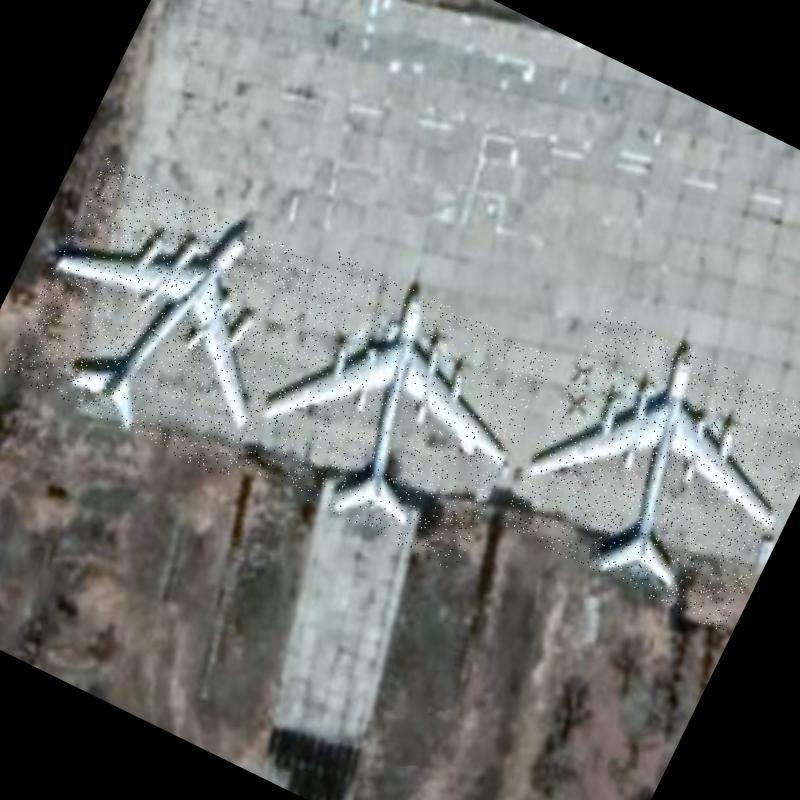A17: (0, 156, 330, 480), (233, 251, 558, 572), (497, 306, 800, 634)
